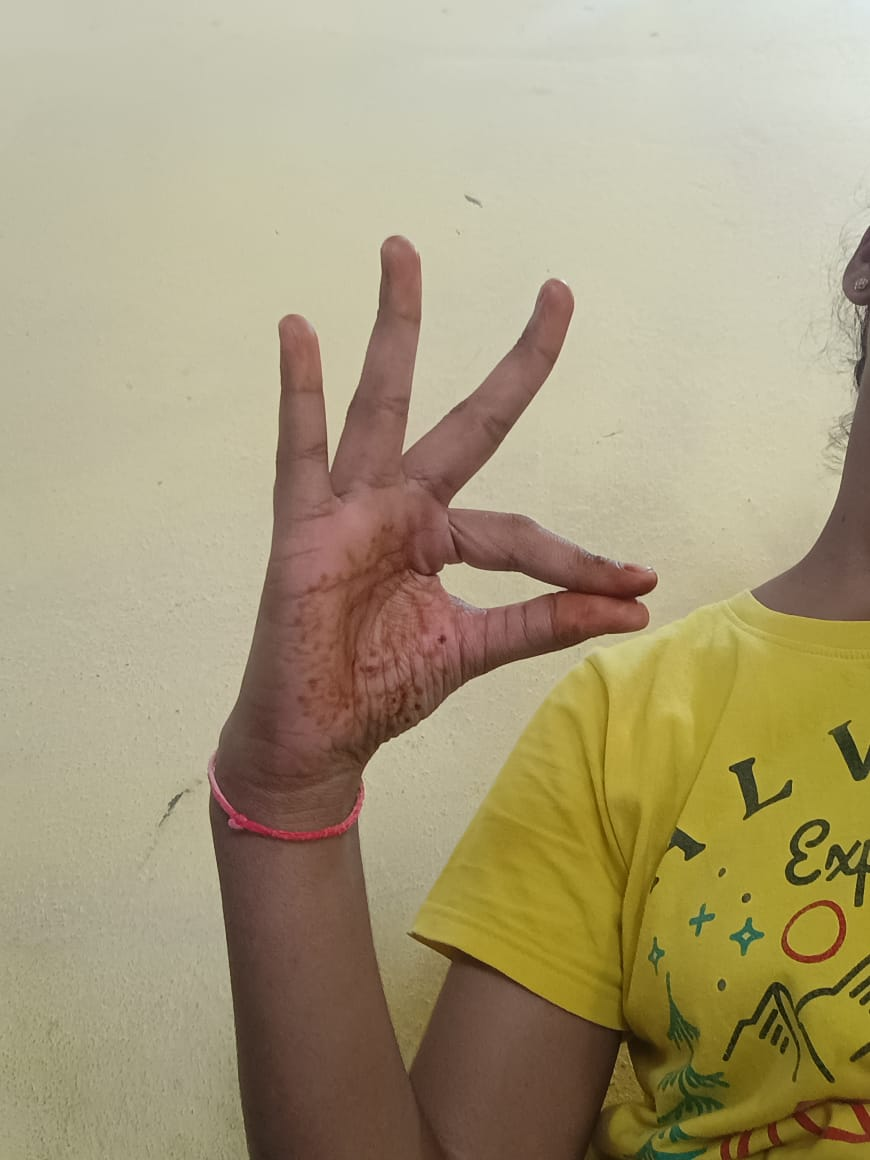F: (267, 236, 656, 773)
